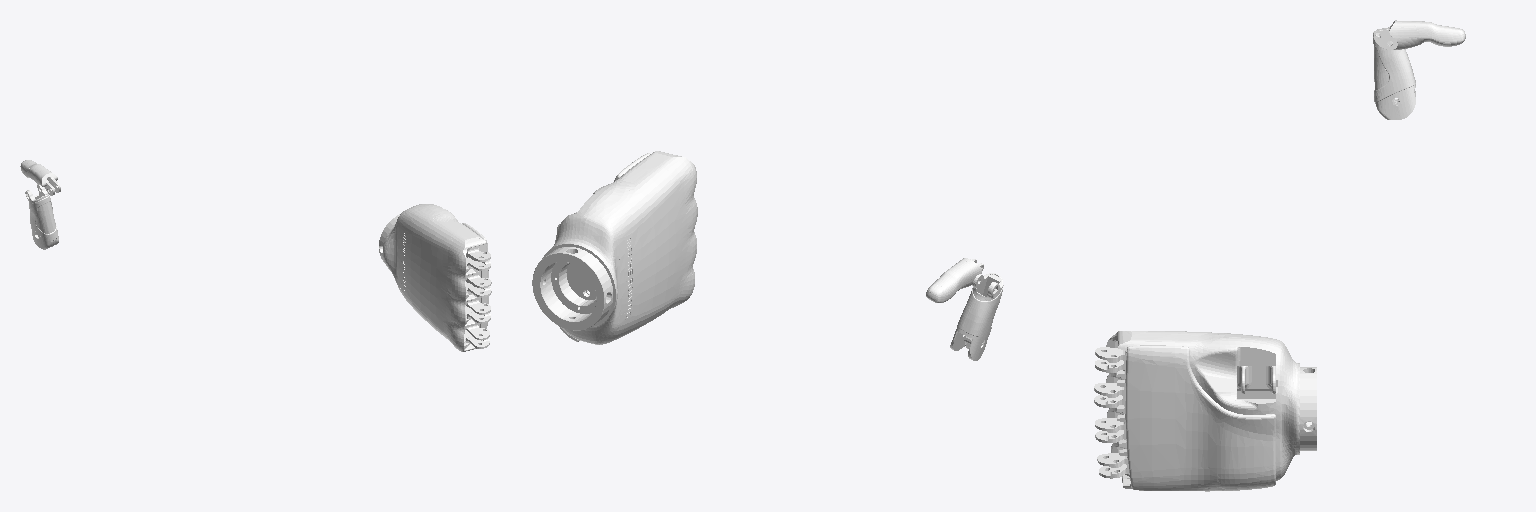
robot.urdf — inspire_hand_r:
<?xml version="1.0" encoding="utf-8"?>
<!-- This URDF was automatically created by SolidWorks to URDF Exporter! Originally created by [author] ([email redacted]) 
     Commit Version: 1.6.0-4-g7f85cfe  Build Version: 1.6.7995.38578
     For more information, please see http://wiki.ros.org/sw_urdf_exporter -->
<robot
  name="inspire_hand_r">
  
  <link name="world"/>
  <joint name="fixed" type="fixed">
  <origin
   xyz="0.5 0.5 0.001"
   rpy="0 3.14 -1.5707963" />
  <parent link="world"/>
  <child link="R_hand_base_link"/>
  </joint>
  
  <link
    name="R_hand_base_link">
    <inertial>
      <origin
        xyz="0 0 -0.06"
        rpy="0 0 0" />
      <mass
        value="0.14143" />
      <inertia
        ixx="7.6663E-05"
        ixy="1.6551E-06"
        ixz="1.7709E-06"
        iyy="8.3832E-05"
        iyz="-2.1711E-06"
        izz="0.00012281" />
    </inertial>
    <visual>
      <origin
        xyz="-0.07818289442 0.24868551657 -0.0830575893"
        rpy="3.1415926 0 3.1415926" />
      <geometry>
        <mesh
          filename="package://inspire_hand_r/meshes/R_hand_base_link.STL" />
      </geometry>
      <material
        name="">
        <color
          rgba="1 1 1 1" />
      </material>
    </visual>
    <collision>
      <origin
        xyz="-0.07818289442 0.24868551657 -0.0830575893"
        rpy="3.1415926 0 3.1415926"  />
      <geometry>
        <mesh
          filename="package://inspire_hand_r/meshes/R_hand_base_link.STL" />
      </geometry>
    </collision>
  </link>
  <link
    name="R_thumb_proximal_base">
    <inertial>
      <origin
        xyz="-0.0048772 -0.010163 0.00044069"
        rpy="0 -3.1415926 0" />
      <mass
        value="0.0018869" />
      <inertia
        ixx="5.2002E-08"
        ixy="4.8353E-09"
        ixz="-6.6441E-09"
        iyy="6.7433E-08"
        iyz="5.4472E-10"
        izz="8.5319E-08" />
    </inertial>
    <visual>
      <origin
        xyz="0 0 0"
        rpy="0 0 0" />
      <geometry>
        <mesh
          filename="package://inspire_hand_r/meshes/R_thumb_proximal_base.STL" />
      </geometry>
      <material
        name="">
        <color
          rgba="1 1 1 1" />
      </material>
    </visual>
    <collision>
      <origin
        xyz="0 0 0"
        rpy="0 0 0" />
      <geometry>
        <mesh
          filename="package://inspire_hand_r/meshes/R_thumb_proximal_base.STL" />
      </geometry>
    </collision>
  </link>
  <joint
    name="R_thumb_MCP_joint1"
    type="revolute">
    <origin
      xyz="0.020450106 0.016955517 -0.071693589"
      rpy="4.7124 0 3.605907533" />
    <parent
      link="R_hand_base_link" />
    <child
      link="R_thumb_proximal_base" />
    <axis
      xyz="0 -1 0" />
    <limit
      lower="0"
      upper="1.1"
      effort="50"
      velocity="1" />
  </joint>
  <link
    name="R_thumb_proximal">
    <inertial>
      <origin
        xyz="-3.8592E-05 0.02533 -0.0017007"
        rpy="0 0 0" />
      <mass
        value="0.0066075" />
      <inertia
        ixx="2.786E-06"
        ixy="1.673E-10"
        ixz="-1.3436E-09"
        iyy="8.9422E-07"
        iyz="-2.1394E-07"
        izz="2.4097E-06" />
    </inertial>
    <visual>
      <origin
        xyz="0 0 0"
        rpy="0 0 0" />
      <geometry>
        <mesh
          filename="package://inspire_hand_r/meshes/R_thumb_proximal.STL" />
      </geometry>
      <material
        name="">
        <color
          rgba="1 1 1 1" />
      </material>
    </visual>
    <collision>
      <origin
        xyz="0 0 0"
        rpy="0 0 0" />
      <geometry>
        <mesh
          filename="package://inspire_hand_r/meshes/R_thumb_proximal.STL" />
      </geometry>
    </collision>
  </link>
  <joint
    name="R_thumb_MCP_joint2"
    type="revolute">
    <origin
      xyz="-0.0115 -0.011843 0"
      rpy="5.55298075 1.5708 0" />
    <parent
      link="R_thumb_proximal_base" />
    <child
      link="R_thumb_proximal" />
    <axis
      xyz="1 0 0" />
    <limit
      lower="0"
      upper="0.5"
      effort="50"
      velocity="1" />
  </joint>
  <link
    name="R_thumb_intermediate">
    <inertial>
      <origin
        xyz="2.8437E-07 0.0072526 -0.0064293"
        rpy="0 0 0" />
      <mass
        value="0.0037847" />
      <inertia
        ixx="4.6531E-07"
        ixy="-3.454E-12"
        ixz="3.4344E-12"
        iyy="2.6858E-07"
        iyz="-6.414E-08"
        izz="4.2517E-07" />
    </inertial>
    <visual>
      <origin
        xyz="0 0 0"
        rpy="0 0 0" />
      <geometry>
        <mesh
          filename="package://inspire_hand_r/meshes/R_thumb_intermediate.STL" />
      </geometry>
      <material
        name="">
        <color
          rgba="1 1 1 1" />
      </material>
    </visual>
    <collision>
      <origin
        xyz="0 0 0"
        rpy="0 0 0" />
      <geometry>
        <mesh
          filename="package://inspire_hand_r/meshes/R_thumb_intermediate.STL" />
      </geometry>
    </collision>
  </link>
  <joint
    name="R_thumb_PIP_joint"
    type="revolute">
    <origin
      xyz="0 0.055863 0.0039241"
      rpy="-0.038299 0 0" />
    <parent
      link="R_thumb_proximal" />
    <child
      link="R_thumb_intermediate" />
    <axis
      xyz="1 0 0" />
    <limit
      lower="0"
      upper="1"
      effort="50"
      velocity="1" />
      <mimic 
        joint="R_thumb_MCP_joint2"
        multiplier="0.6"
        offset="0" />
  </joint>
  <link
    name="R_thumb_distal">
    <inertial>
      <origin
        xyz="-3.3054E-06 0.010511 -0.00057863"
        rpy="0 0 0" />
      <mass
        value="0.0033441" />
      <inertia
        ixx="2.0026E-07"
        ixy="-1.4303E-10"
        ixz="-5.6945E-11"
        iyy="8.711E-08"
        iyz="-2.4416E-08"
        izz="1.8974E-07" />
    </inertial>
    <visual>
      <origin
        xyz="0 0 0"
        rpy="0 0 0" />
      <geometry>
        <mesh
          filename="package://inspire_hand_r/meshes/R_thumb_distal.STL" />
      </geometry>
      <material
        name="">
        <color
          rgba="1 1 1 1" />
      </material>
    </visual>
    <collision>
      <origin
        xyz="0 0 0"
        rpy="0 0 0" />
      <geometry>
        <mesh
          filename="package://inspire_hand_r/meshes/R_thumb_distal.STL" />
      </geometry>
    </collision>
  </link>
  <joint
    name="R_thumb_DIP_joint"
    type="revolute">
    <origin
      xyz="0 0.022558 -0.0020717"
      rpy="-0.011642 0 0" />
    <parent
      link="R_thumb_intermediate" />
    <child
      link="R_thumb_distal" />
    <axis
      xyz="1 0 0" />
    <limit
      lower="0"
      upper="1.2"
      effort="50"
      velocity="1" />
      <mimic 
        joint="R_thumb_MCP_joint2"
        multiplier="0.8"
        offset="0" />
  </joint>
  <link
    name="R_index_proximal">
    <inertial>
      <origin
        xyz="0.0099008 0.011884 0.0016958"
        rpy="0 0 0" />
      <mass
        value="0.0042403" />
      <inertia
        ixx="6.9398E-07"
        ixy="-4.4846E-12"
        ixz="-3.0248E-12"
        iyy="2.3039E-07"
        iyz="-9.1779E-08"
        izz="6.434E-07" />
    </inertial>
    <visual>
      <origin
        xyz="0 0 0"
        rpy="0 0 0" />
      <geometry>
        <mesh
          filename="package://inspire_hand_r/meshes/R_index_proximal.STL" />
      </geometry>
      <material
        name="">
        <color
          rgba="1 1 1 1" />
      </material>
    </visual>
    <collision>
      <origin
        xyz="0 0 0"
        rpy="0 0 0" />
      <geometry>
        <mesh
          filename="package://inspire_hand_r/meshes/R_index_proximal.STL" />
      </geometry>
    </collision>
  </link>
  <joint
    name="R_index_MCP_joint"
    type="revolute">
    <origin
      xyz="0.016376106 -0.000284483 -0.137082589"
      rpy="4.4684 -0.034907 0" />
    <parent
      link="R_hand_base_link" />
    <child
      link="R_index_proximal" />
    <axis
      xyz="1 0 0" />
    <limit
      lower="0"
      upper="1.7"
      effort="50"
      velocity="1" />
  </joint>
  <link
    name="R_index_distal">
    <inertial>
      <origin
        xyz="0.0083258 0.019591 0.0019565"
        rpy="0 0 0" />
      <mass
        value="0.0045683" />
      <inertia
        ixx="7.8179E-07"
        ixy="9.0022E-13"
        ixz="5.6729E-13"
        iyy="1.5635E-07"
        iyz="-2.1007E-07"
        izz="7.0084E-07" />
    </inertial>
    <visual>
      <origin
        xyz="0 0 0"
        rpy="0 0 0" />
      <geometry>
        <mesh
          filename="package://inspire_hand_r/meshes/R_index_distal.STL" />
      </geometry>
      <material
        name="">
        <color
          rgba="1 1 1 1" />
      </material>
    </visual>
    <collision>
      <origin
        xyz="0 0 0"
        rpy="0 0 0" />
      <geometry>
        <mesh
          filename="package://inspire_hand_r/meshes/R_index_distal.STL" />
      </geometry>
    </collision>
  </link>
  <joint
    name="R_index_DIP_joint"
    type="revolute">
    <origin
      xyz="0.001575 0.030445 0.010275"
      rpy="0.044288 0 0" />
    <parent
      link="R_index_proximal" />
    <child
      link="R_index_distal" />
    <axis
      xyz="1 0 0" />
    <limit
      lower="0"
      upper="1.6"
      effort="50"
      velocity="1" />
      <mimic 
        joint="R_index_MCP_joint"
        multiplier="1"
        offset="0" />
  </joint>
  <link
    name="R_middle_proximal">
    <inertial>
      <origin
        xyz="0.008065 0.011884 0.0016958"
        rpy="0 0 0" />
      <mass
        value="0.0042403" />
      <inertia
        ixx="6.9397E-07"
        ixy="-6.0276E-12"
        ixz="-3.3971E-12"
        iyy="2.3039E-07"
        iyz="-9.1777E-08"
        izz="6.4339E-07" />
    </inertial>
    <visual>
      <origin
        xyz="0 0 0"
        rpy="0 0 0" />
      <geometry>
        <mesh
          filename="package://inspire_hand_r/meshes/R_middle_proximal.STL" />
      </geometry>
      <material
        name="">
        <color
          rgba="1 1 1 1" />
      </material>
    </visual>
    <collision>
      <origin
        xyz="0 0 0"
        rpy="0 0 0" />
      <geometry>
        <mesh
          filename="package://inspire_hand_r/meshes/R_middle_proximal.STL" />
      </geometry>
    </collision>
  </link>
  <joint
    name="R_middle_MCP_joint"
    type="revolute">
    <origin
      xyz="-0.001114894 -0.000284483 -0.137099589"
      rpy="4.4624 0 0" />
    <parent
      link="R_hand_base_link" />
    <child
      link="R_middle_proximal" />
    <axis
      xyz="1 0 0" />
    <limit
      lower="0"
      upper="1.68"
      effort="50"
      velocity="1" />
  </joint>
  <link
    name="R_middle_distal">
    <inertial>
      <origin
        xyz="0.0063978 0.020807 0.0018039"
        rpy="0 0 0" />
      <mass
        value="0.0050396" />
      <inertia
        ixx="9.8384E-07"
        ixy="5.3828E-12"
        ixz="3.4908E-12"
        iyy="1.7328E-07"
        iyz="-2.5594E-07"
        izz="8.914E-07" />
    </inertial>
    <visual>
      <origin
        xyz="0 0 0"
        rpy="0 0 0" />
      <geometry>
        <mesh
          filename="package://inspire_hand_r/meshes/R_middle_distal.STL" />
      </geometry>
      <material
        name="">
        <color
          rgba="1 1 1 1" />
      </material>
    </visual>
    <collision>
      <origin
        xyz="0 0 0"
        rpy="0 0 0" />
      <geometry>
        <mesh
          filename="package://inspire_hand_r/meshes/R_middle_distal.STL" />
      </geometry>
    </collision>
  </link>
  <joint
    name="R_middle_DIP_joint"
    type="revolute">
    <origin
      xyz="0.0016673 0.030445 0.010275"
      rpy="0.071413 0 0" />
    <parent
      link="R_middle_proximal" />
    <child
      link="R_middle_distal" />
    <axis
      xyz="1 0 0" />
    <limit
      lower="0"
      upper="1.6"
      effort="50"
      velocity="1" />
      <mimic 
        joint="R_middle_MCP_joint"
        multiplier="1"
        offset="0" />
  </joint>
  <link
    name="R_ring_proximal">
    <inertial>
      <origin
        xyz="0.0080207 0.011884 0.0016959"
        rpy="0 0 0" />
      <mass
        value="0.0042403" />
      <inertia
        ixx="6.9397E-07"
        ixy="-6.088E-12"
        ixz="-3.1846E-12"
        iyy="2.3039E-07"
        iyz="-9.1776E-08"
        izz="6.4339E-07" />
    </inertial>
    <visual>
      <origin
        xyz="0 0 0"
        rpy="0 0 0" />
      <geometry>
        <mesh
          filename="package://inspire_hand_r/meshes/R_ring_proximal.STL" />
      </geometry>
      <material
        name="">
        <color
          rgba="1 1 1 1" />
      </material>
    </visual>
    <collision>
      <origin
        xyz="0 0 0"
        rpy="0 0 0" />
      <geometry>
        <mesh
          filename="package://inspire_hand_r/meshes/R_ring_proximal.STL" />
      </geometry>
    </collision>
  </link>
  <joint
    name="R_ring_MCP_joint"
    type="revolute">
    <origin
      xyz="-0.020288894 -0.000284483 -0.136176589"
      rpy="4.4624 0.05236 0" />
    <parent
      link="R_hand_base_link" />
    <child
      link="R_ring_proximal" />
    <axis
      xyz="1 0 0" />
    <limit
      lower="0"
      upper="1.7"
      effort="50"
      velocity="1" />
  </joint>
  <link
    name="R_ring_distal">
    <inertial>
      <origin
        xyz="0.0080209 0.019591 0.0019565"
        rpy="0 0 0" />
      <mass
        value="0.0045683" />
      <inertia
        ixx="7.8177E-07"
        ixy="4.448E-13"
        ixz="7.2441E-13"
        iyy="1.5635E-07"
        iyz="-2.1007E-07"
        izz="7.0082E-07" />
    </inertial>
    <visual>
      <origin
        xyz="0 0 0"
        rpy="0 0 0" />
      <geometry>
        <mesh
          filename="package://inspire_hand_r/meshes/R_ring_distal.STL" />
      </geometry>
      <material
        name="">
        <color
          rgba="1 1 1 1" />
      </material>
    </visual>
    <collision>
      <origin
        xyz="0 0 0"
        rpy="0 0 0" />
      <geometry>
        <mesh
          filename="package://inspire_hand_r/meshes/R_ring_distal.STL" />
      </geometry>
    </collision>
  </link>
  <joint
    name="R_ring_DIP_joint"
    type="revolute">
    <origin
      xyz="0 0.030445 0.010275"
      rpy="0.039748 0 0" />
    <parent
      link="R_ring_proximal" />
    <child
      link="R_ring_distal" />
    <axis
      xyz="1 0 0" />
    <limit
      lower="0"
      upper="1.6"
      effort="50"
      velocity="1" />
      <mimic 
        joint="R_ring_MCP_joint"
        multiplier="1"
        offset="0" />
  </joint>
  <link
    name="R_pinky_proximal">
    <inertial>
      <origin
        xyz="0.0078887 0.011884 0.0016959"
        rpy="0 0 0" />
      <mass
        value="0.0042403" />
      <inertia
        ixx="6.9397E-07"
        ixy="-6.2993E-12"
        ixz="-3.3535E-12"
        iyy="2.3039E-07"
        iyz="-9.1776E-08"
        izz="6.4339E-07" />
    </inertial>
    <visual>
      <origin
        xyz="0 0 0"
        rpy="0 0 0" />
      <geometry>
        <mesh
          filename="package://inspire_hand_r/meshes/R_pinky_proximal.STL" />
      </geometry>
      <material
        name="">
        <color
          rgba="1 1 1 1" />
      </material>
    </visual>
    <collision>
      <origin
        xyz="0 0 0"
        rpy="0 0 0" />
      <geometry>
        <mesh
          filename="package://inspire_hand_r/meshes/R_pinky_proximal.STL" />
      </geometry>
    </collision>
  </link>
  <joint
    name="R_pinky_MCP_joint"
    type="revolute">
    <origin
      xyz="-0.039300894 -0.000028483 -0.134262589"
      rpy="4.4624 0.10472 0" />
    <parent
      link="R_hand_base_link" />
    <child
      link="R_pinky_proximal" />
    <axis
      xyz="1 0 0" />
    <limit
      lower="0"
      upper="1.7"
      effort="50"
      velocity="1" />
  </joint>
  <link
    name="R_pinky_distal">
    <inertial>
      <origin
        xyz="0.0078857 0.016239 0.0022243"
        rpy="0 0 0" />
      <mass
        value="0.0035996" />
      <inertia
        ixx="4.4867E-07"
        ixy="6.675E-11"
        ixz="-1.9009E-11"
        iyy="1.2248E-07"
        iyz="-1.3511E-07"
        izz="3.8689E-07" />
    </inertial>
    <visual>
      <origin
        xyz="0 0 0"
        rpy="0 0 0" />
      <geometry>
        <mesh
          filename="package://inspire_hand_r/meshes/R_pinky_distal.STL" />
      </geometry>
      <material
        name="">
        <color
          rgba="1 1 1 1" />
      </material>
    </visual>
    <collision>
      <origin
        xyz="0 0 0"
        rpy="0 0 0" />
      <geometry>
        <mesh
          filename="package://inspire_hand_r/meshes/R_pinky_distal.STL" />
      </geometry>
    </collision>
  </link>
  <joint
    name="R_pinky_DIP_joint"
    type="revolute">
    <origin
      xyz="0 0.030445 0.010275"
      rpy="-0.037691 0 0" />
    <parent
      link="R_pinky_proximal" />
    <child
      link="R_pinky_distal" />
    <axis
      xyz="1 0 0" />
    <limit
      lower="0"
      upper="1.6"
      effort="50"
      velocity="1" />
      <mimic 
        joint="R_pinky_MCP_joint"
        multiplier="1"
        offset="0" />
  </joint>
</robot>

--- Render facts (derived) ---
Views: 3 orthographic renders of the robot side by side, from view 1: azimuth 30°, elevation 25°; view 2: azimuth 150°, elevation 25°; view 3: azimuth 270°, elevation 25°.
Model inspire_hand_r with 14 links and 13 joints (12 revolute, 1 fixed), rooted at world, posed every joint at zero.
Links seen in each view (by area): view 1: R_hand_base_link, R_pinky_proximal, R_pinky_distal; view 2: R_hand_base_link, R_pinky_proximal, R_pinky_distal; view 3: R_hand_base_link, R_pinky_proximal, R_pinky_distal.
Link boxes in pixels (left/top/right/bottom): R_hand_base_link: left=379, top=204, right=491, bottom=351; R_pinky_proximal: left=25, top=184, right=58, bottom=249; R_pinky_distal: left=20, top=160, right=60, bottom=195; R_hand_base_link: left=532, top=151, right=697, bottom=344; R_pinky_proximal: left=950, top=273, right=1003, bottom=360; R_pinky_distal: left=926, top=258, right=983, bottom=302; R_hand_base_link: left=1094, top=331, right=1316, bottom=491; R_pinky_proximal: left=1373, top=31, right=1415, bottom=119; R_pinky_distal: left=1373, top=20, right=1465, bottom=49.
Size in the robot's own frame: 0.292 by 0.183 by 0.1353 metres.
3 mesh visuals loaded from 13 distinct referenced files (3 binary STL); not drawn: 10 (reference not matched to a file when rendering).